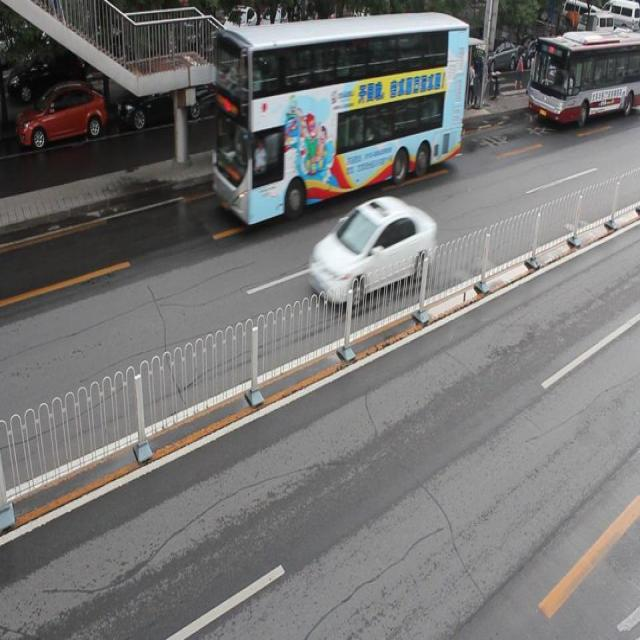car: (308, 194, 434, 306), (16, 77, 107, 145), (119, 64, 208, 122), (290, 40, 360, 94), (221, 47, 281, 106)
van: (212, 18, 468, 224), (528, 31, 640, 124)
